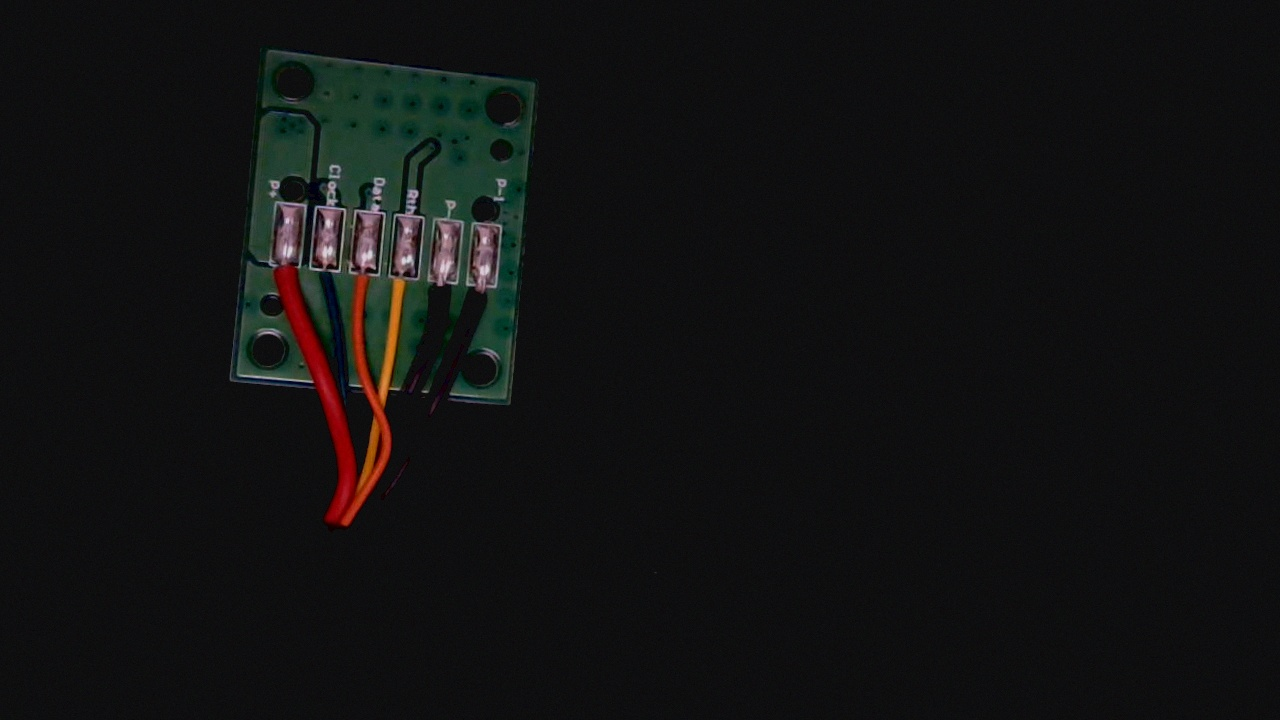Black: (421, 265, 458, 334)
Black1: (462, 270, 501, 340)
Green: (304, 251, 343, 315)
Orange: (344, 255, 380, 319)
Red: (262, 247, 302, 319)
Yellow: (385, 260, 418, 328)
